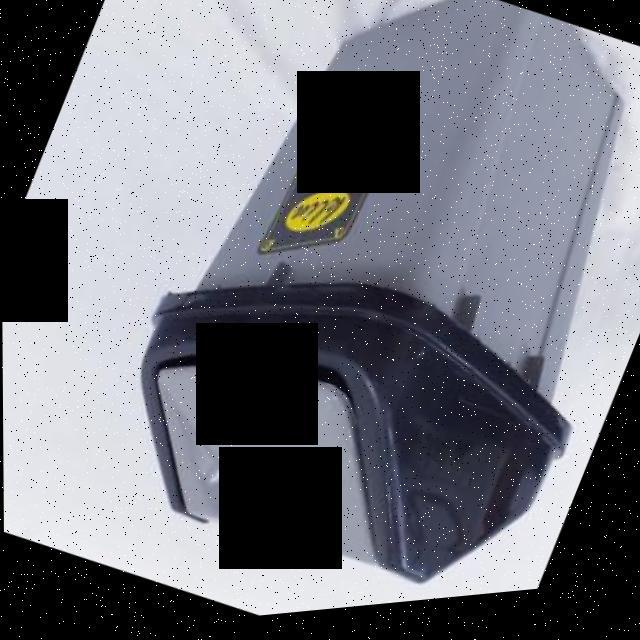bin: (57, 0, 640, 636)
